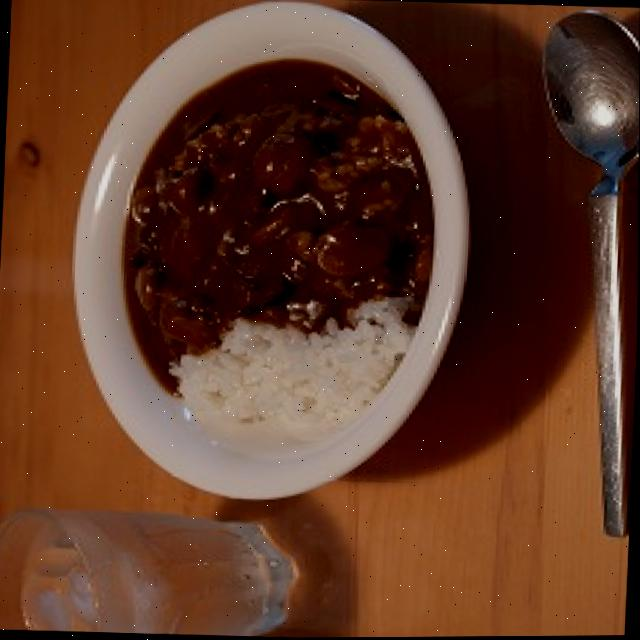牛肉菜式: (57, 0, 480, 504)
